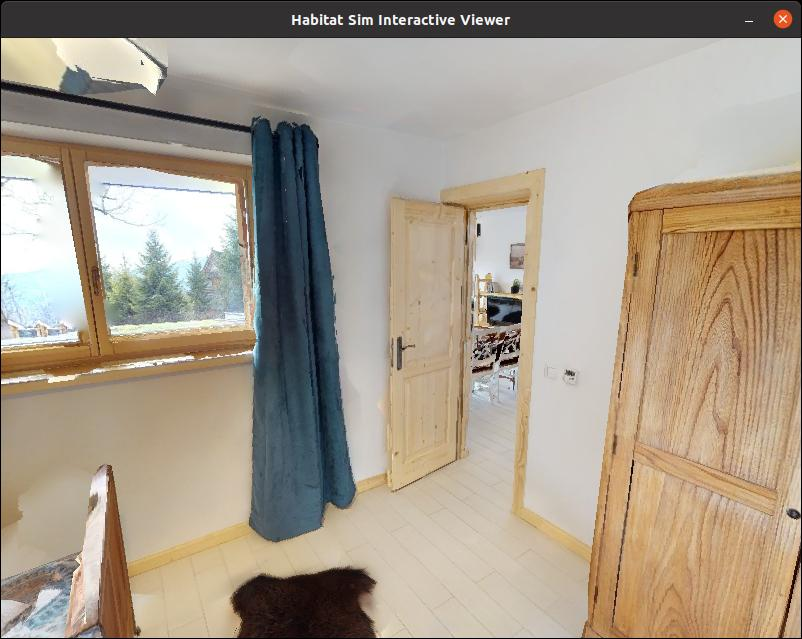door: (387, 201, 464, 484)
door-frame: (459, 173, 537, 518)
